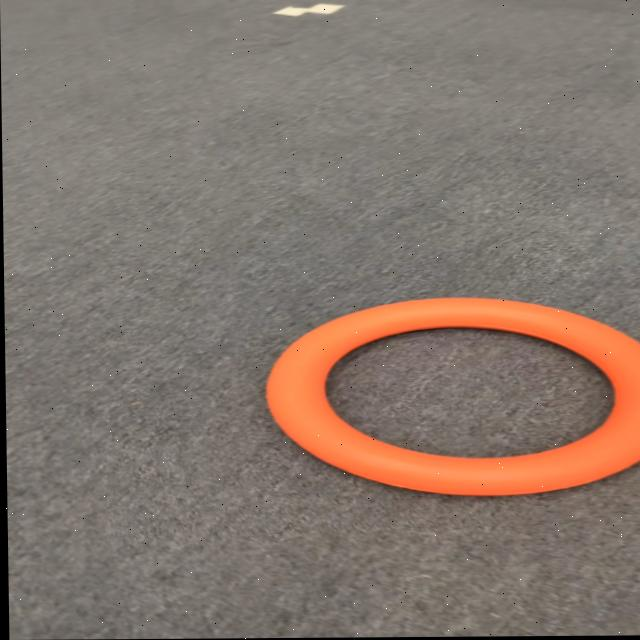note: (255, 296, 640, 494)
